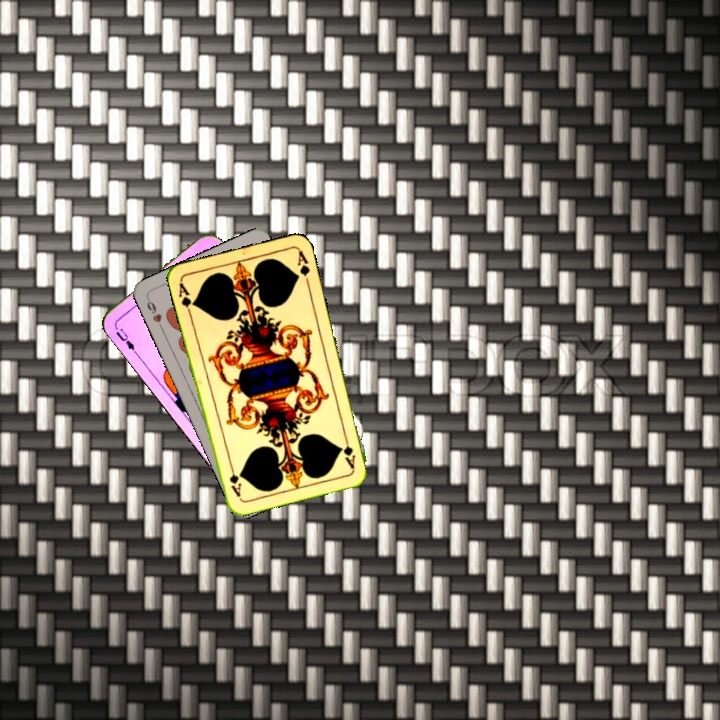EU: (112, 324, 138, 355)
GA: (175, 279, 198, 318), (338, 431, 358, 471)
H9: (143, 294, 166, 332)
